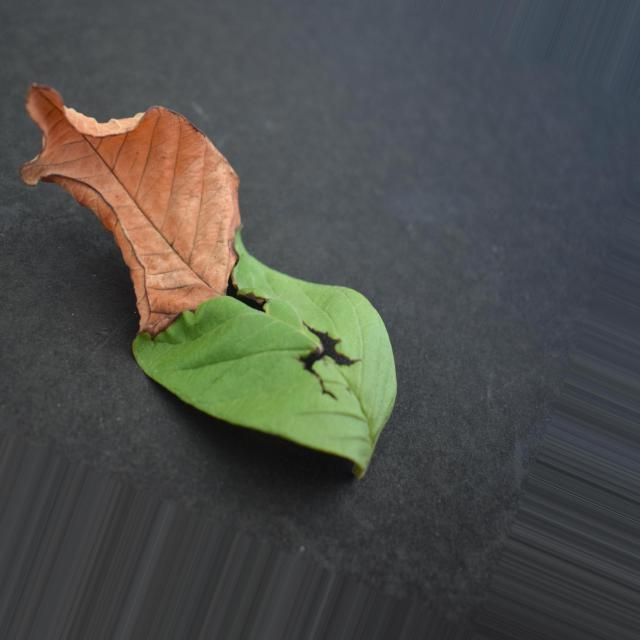Mummification: (20, 84, 396, 478)
